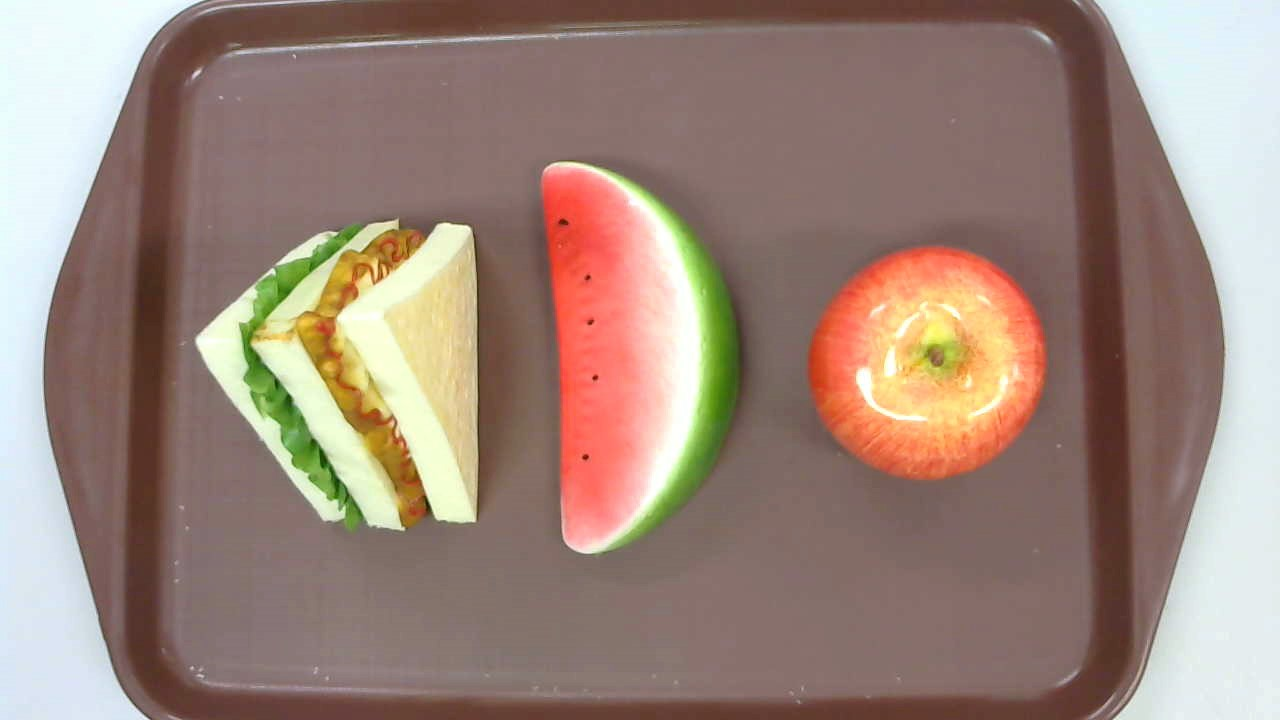red apple: (806, 244, 1047, 480)
sandwich: (195, 218, 478, 530)
water melon: (541, 161, 741, 555)
